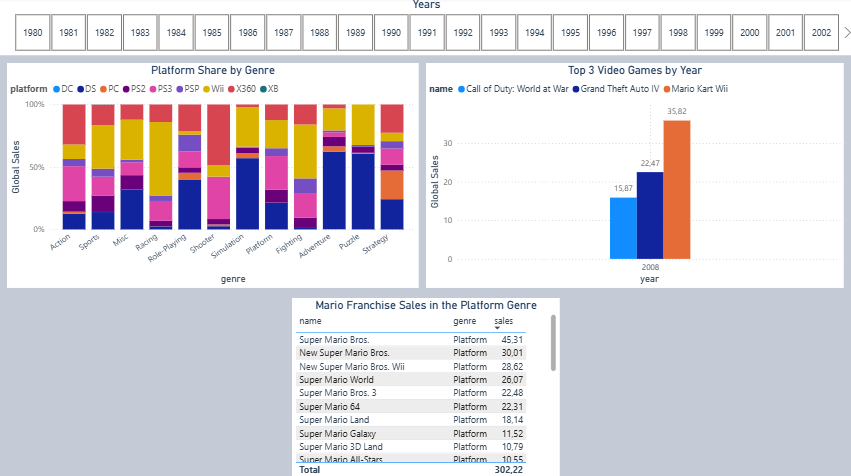

The page's visual inventory and layout, read from the dashboard file:
{"tool":"powerbi","page":{"name":"Additional Insights","canvas":[1280,720],"ordinal":5},"visuals":[{"type":"hundredPercentStackedColumnChart","title":"Platform Share by Genre","fields":{"Category":["video_game_sales vgsales.genre"],"Y":["Sum(video_game_sales vgsales.global_sales)"],"Series":["video_game_sales vgsales.platform"]},"box":[13.4,98.6,615.4,336.1],"z":0},{"type":"slicer","title":"Years","fields":{"Values":["video_game_sales vgsales.year"]},"box":[13.4,12,1250.3,74.7],"z":1000},{"type":"clusteredColumnChart","title":"Top 3 Video Games by Year","fields":{"Y":["Sum(video_game_sales vgsales.global_sales)"],"Series":["video_game_sales vgsales.name"],"Category":["video_game_sales vgsales.year"]},"box":[639.2,98.4,624.5,336.5],"z":2000},{"type":"tableEx","title":"Mario Franchise Sales in the Platform Genre","fields":{"Values":["2 video game sales.name","2 video game sales.genre","Sum(2 video game sales.Valor)"]},"box":[449.6,449.6,387.9,257.1],"z":3000}]}

Visuals, with their boxes in screenshot pixels (x1, y1, x2, y2), scaled from the page's 1280x720 canvas onto the 851x476 screenshot:
"Platform Share by Genre" hundredPercentStackedColumnChart: [9, 65, 418, 287]
"Years" slicer: [9, 8, 840, 57]
"Top 3 Video Games by Year" clusteredColumnChart: [425, 65, 840, 288]
"Mario Franchise Sales in the Platform Genre" tableEx: [299, 297, 557, 467]
